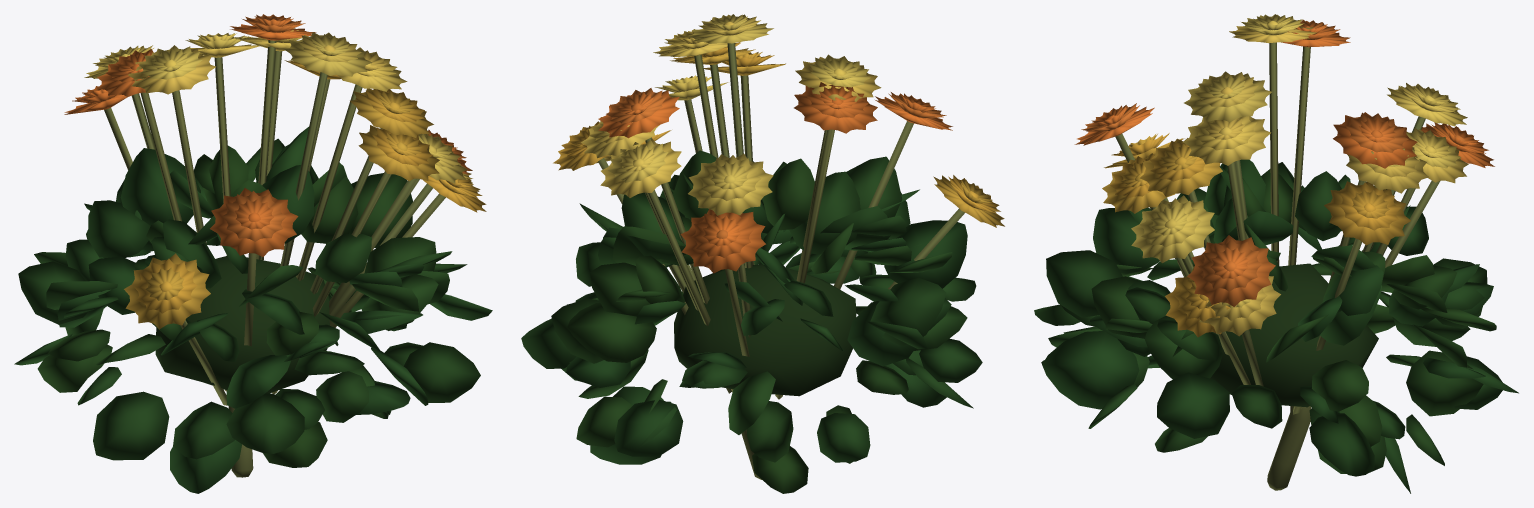
Rendered from potfill_mums.glb.
The picture shows the model from 3 angles, left to right: view 1: azimuth 30°, elevation 25°; view 2: azimuth 150°, elevation 25°; view 3: azimuth 270°, elevation 25°; orthographic projection. The views are drawn at different scales.
Parts seen in each view (by area): view 1: Sammel Pflanze, Sammel Putz, Sammel Blatt; view 2: Sammel Pflanze, Sammel Blatt, Sammel Putz; view 3: Sammel Pflanze, Sammel Putz, Sammel Blatt.
Boxes of the visible parts, x1,y1,x2,y2 form: Sammel Pflanze: [14, 14, 492, 493]; Sammel Putz: [104, 40, 445, 477]; Sammel Blatt: [155, 256, 329, 393]; Sammel Pflanze: [521, 14, 1004, 493]; Sammel Blatt: [674, 264, 856, 396]; Sammel Putz: [598, 43, 964, 479]; Sammel Pflanze: [1034, 14, 1518, 493]; Sammel Putz: [1115, 42, 1440, 490]; Sammel Blatt: [1210, 263, 1378, 407].
Size of the model in its own units: 0.3099 by 0.3222 by 0.3244.
